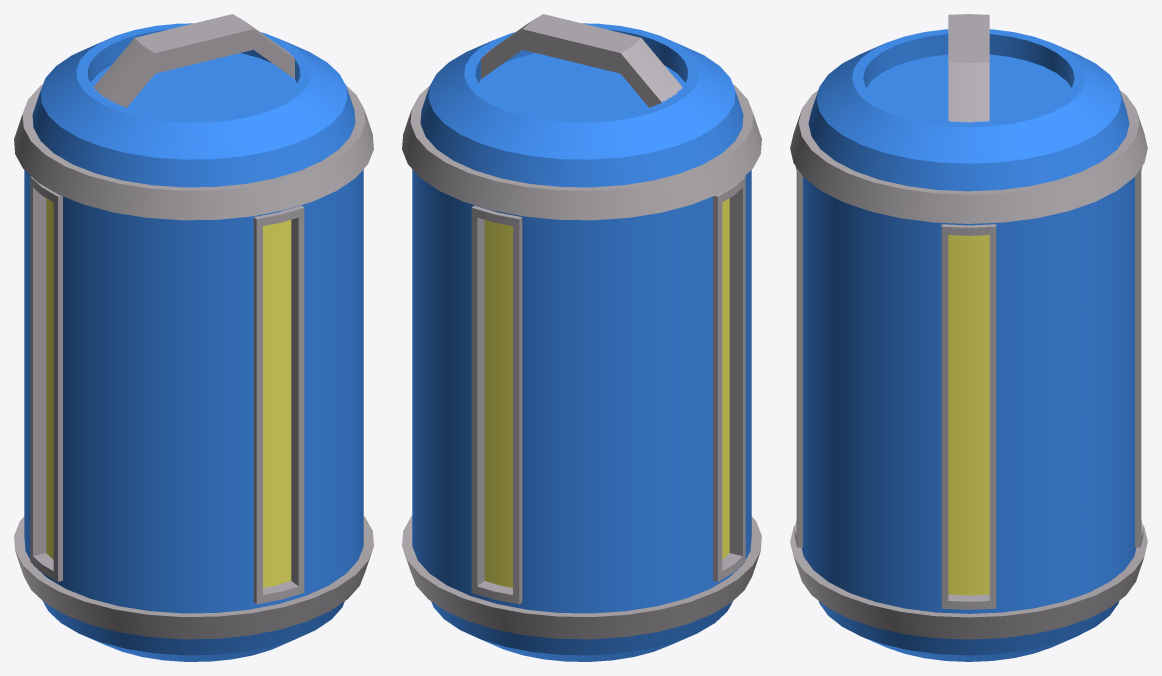
File: BatteryModel.fbx
3 views of the same model, side by side, from view 1: azimuth 30°, elevation 25°; view 2: azimuth 150°, elevation 25°; view 3: azimuth 270°, elevation 25° (orthographic).
Visible parts, largest first — view 1: BatteryModel; view 2: BatteryModel; view 3: BatteryModel.
Part boxes in pixels (x1,y1,x2,y2): BatteryModel: (14, 14, 373, 661); BatteryModel: (402, 14, 761, 661); BatteryModel: (790, 14, 1147, 661).
Size of the model in its own units: 88.58 by 157 by 88.58.
